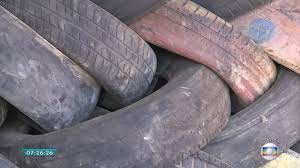tire: (1, 42, 232, 166), (82, 40, 296, 168), (92, 1, 285, 125), (2, 1, 161, 120), (1, 1, 102, 140)
